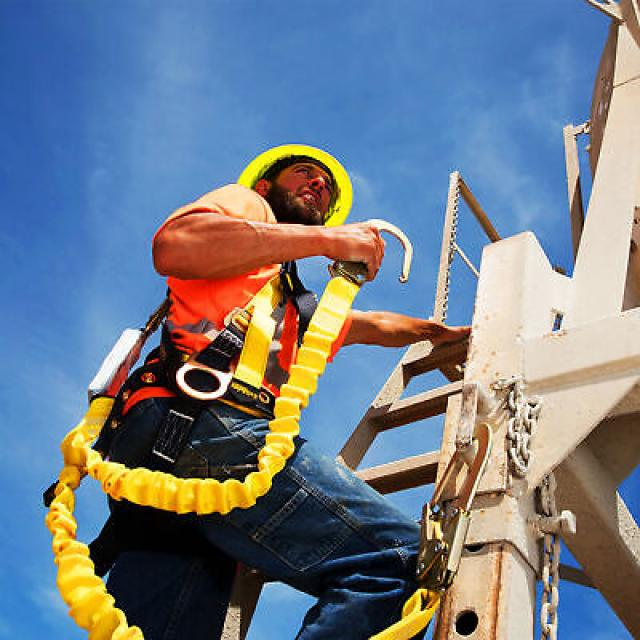harness: (44, 209, 507, 640)
